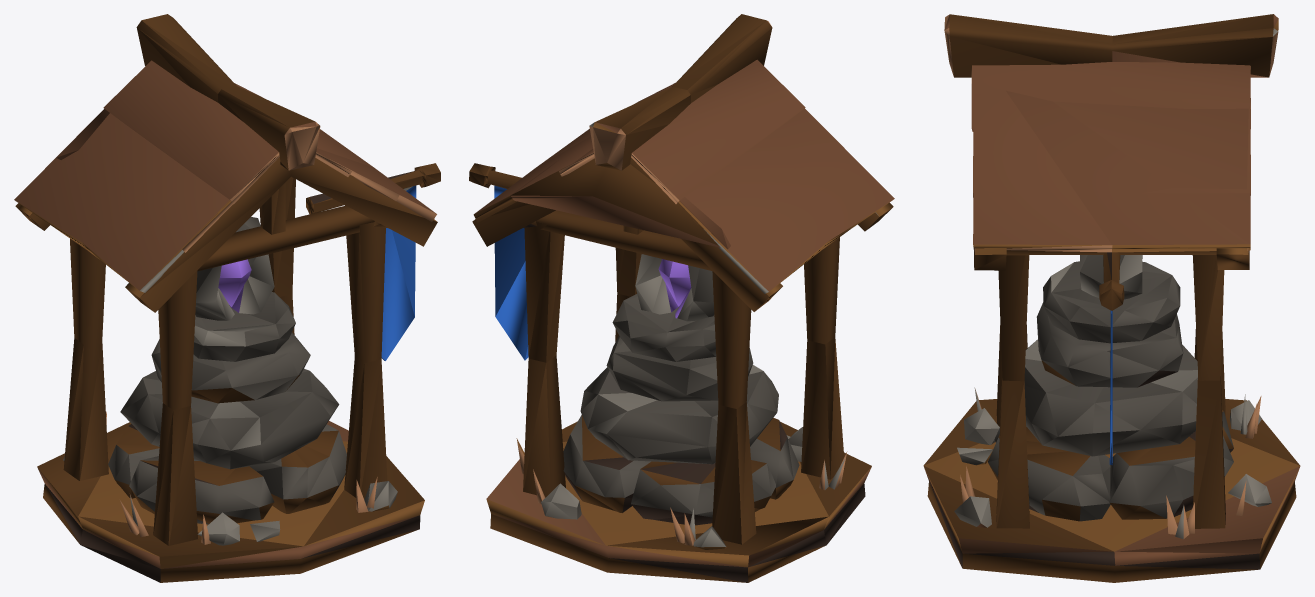
Rendered from building.shrine.glb.
The picture shows the model from 3 angles, left to right: view 1: azimuth 30°, elevation 25°; view 2: azimuth 150°, elevation 25°; view 3: azimuth 270°, elevation 25°; orthographic projection. The views are drawn at different scales.
Parts seen in each view (by area): view 1: asset; view 2: asset; view 3: asset.
Part boxes in pixels (bbox=[...]): asset: bbox=[14, 14, 440, 582]; asset: bbox=[469, 14, 894, 582]; asset: bbox=[923, 14, 1300, 582].
Bounding box in the file's own units: 1.5 × 1.75 × 1.24.
